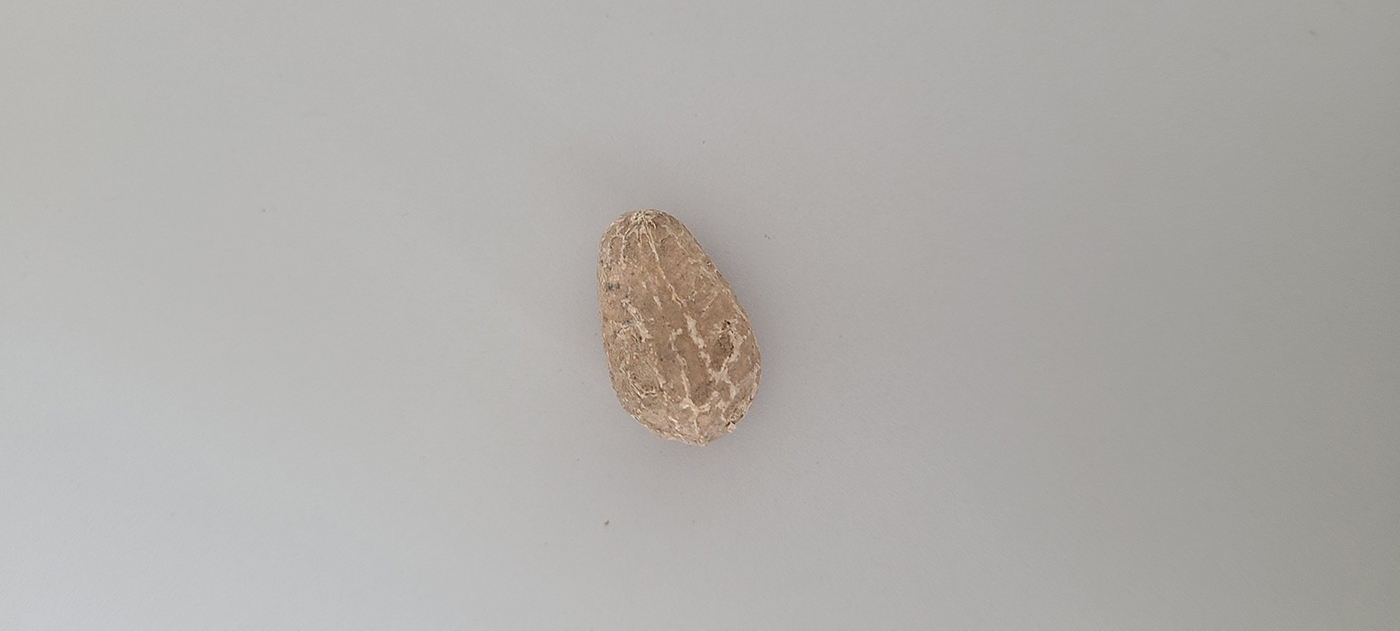h: (596, 207, 758, 444)
